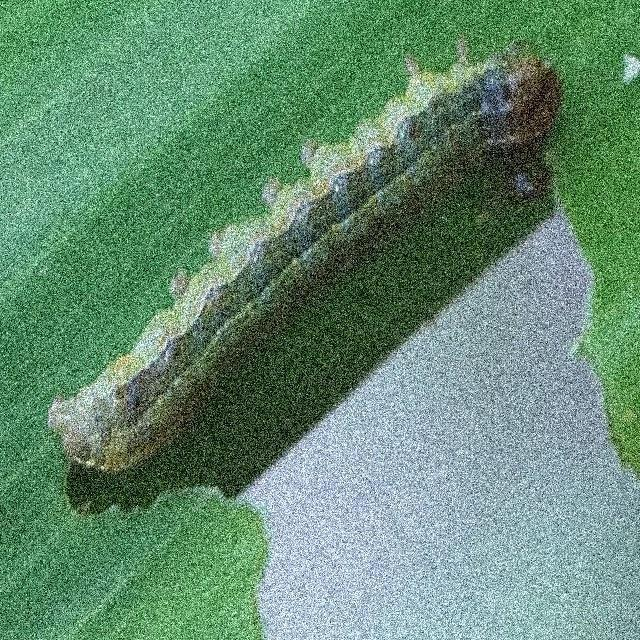gusano_cogollero: (49, 41, 552, 466)
